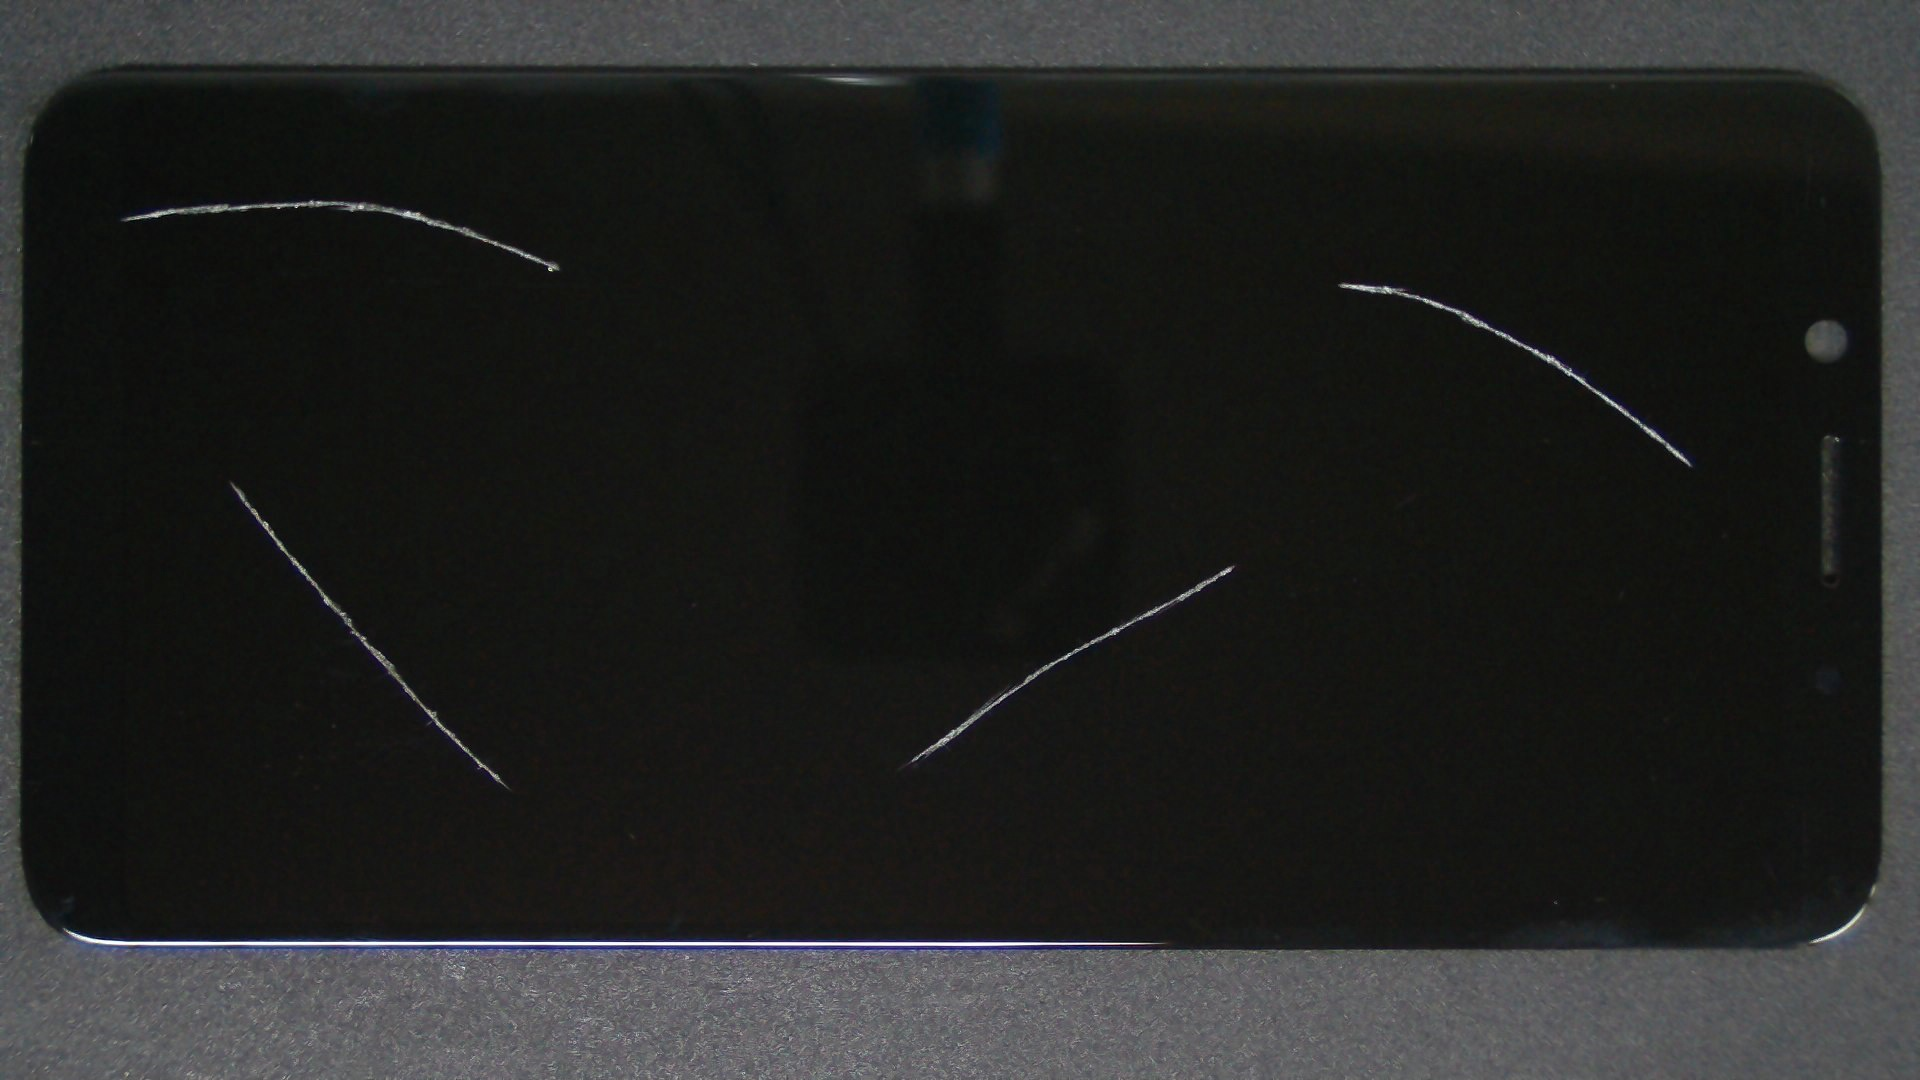oil: (616, 282, 1846, 849), (673, 141, 1920, 425), (115, 240, 343, 723), (156, 99, 463, 299)
